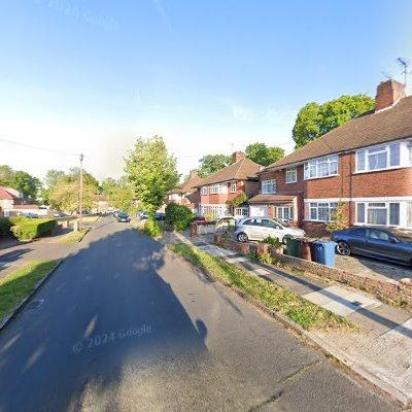stationary-car-offstreet: (331, 225, 411, 269), (230, 215, 304, 245), (190, 214, 211, 226), (213, 215, 238, 225)
stationary-car-onstreet: (116, 211, 132, 223)
